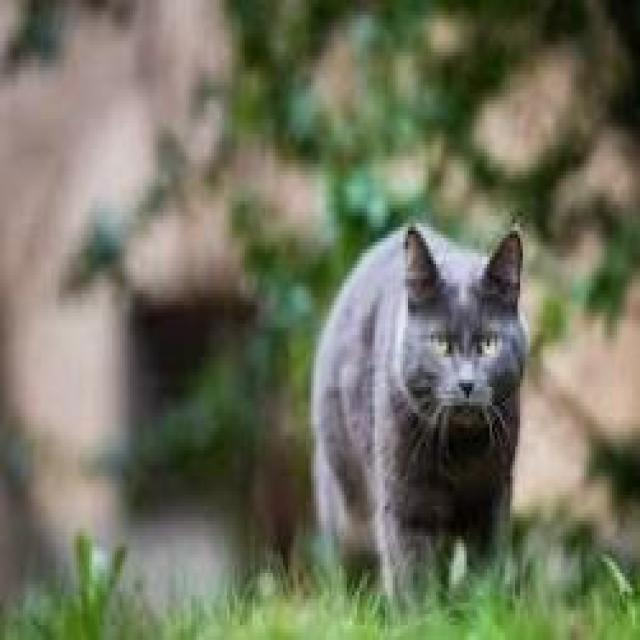Gato: (303, 212, 528, 618)
